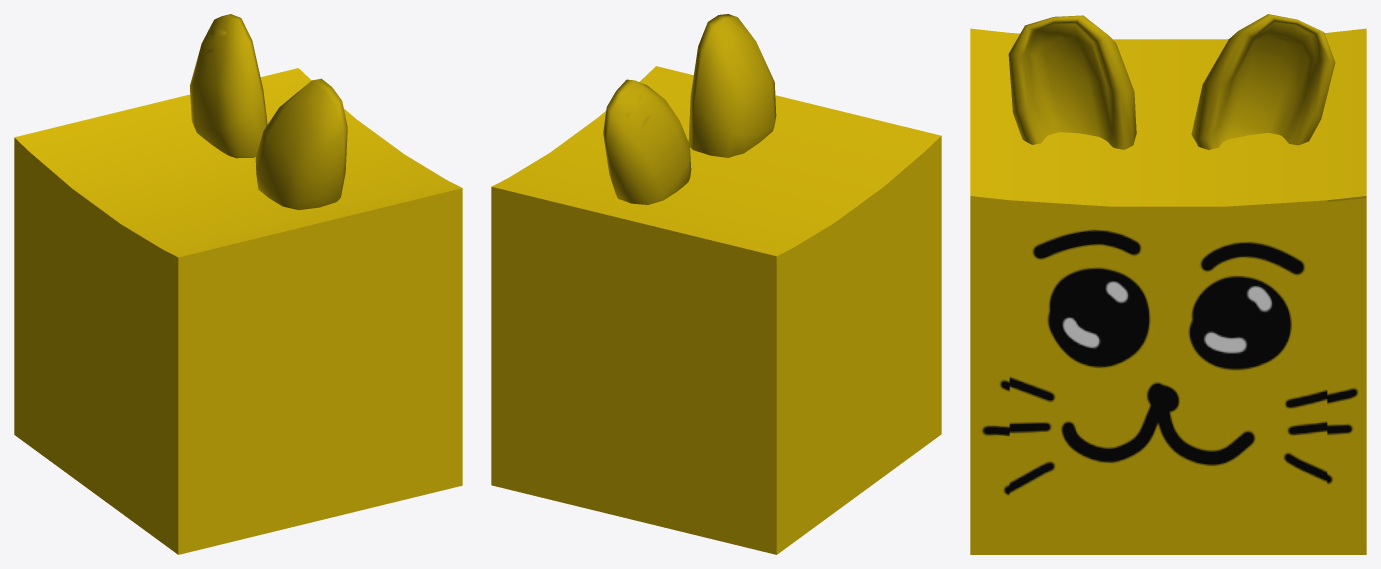
The model's file is cat2.fbx.
3 views of the same model, side by side, from view 1: azimuth 30°, elevation 25°; view 2: azimuth 150°, elevation 25°; view 3: azimuth 270°, elevation 25° (orthographic). The views are drawn at different scales.
Visible parts, largest first — view 1: Cube; view 2: Cube; view 3: Cube.
Boxes of the visible parts, x1,y1,x2,y2 form: Cube: (14,14,462,554); Cube: (491,14,941,554); Cube: (970,14,1366,554).
Size of the model in its own units: 200 by 268 by 200.
Materials: 1 (1 with a texture image).
